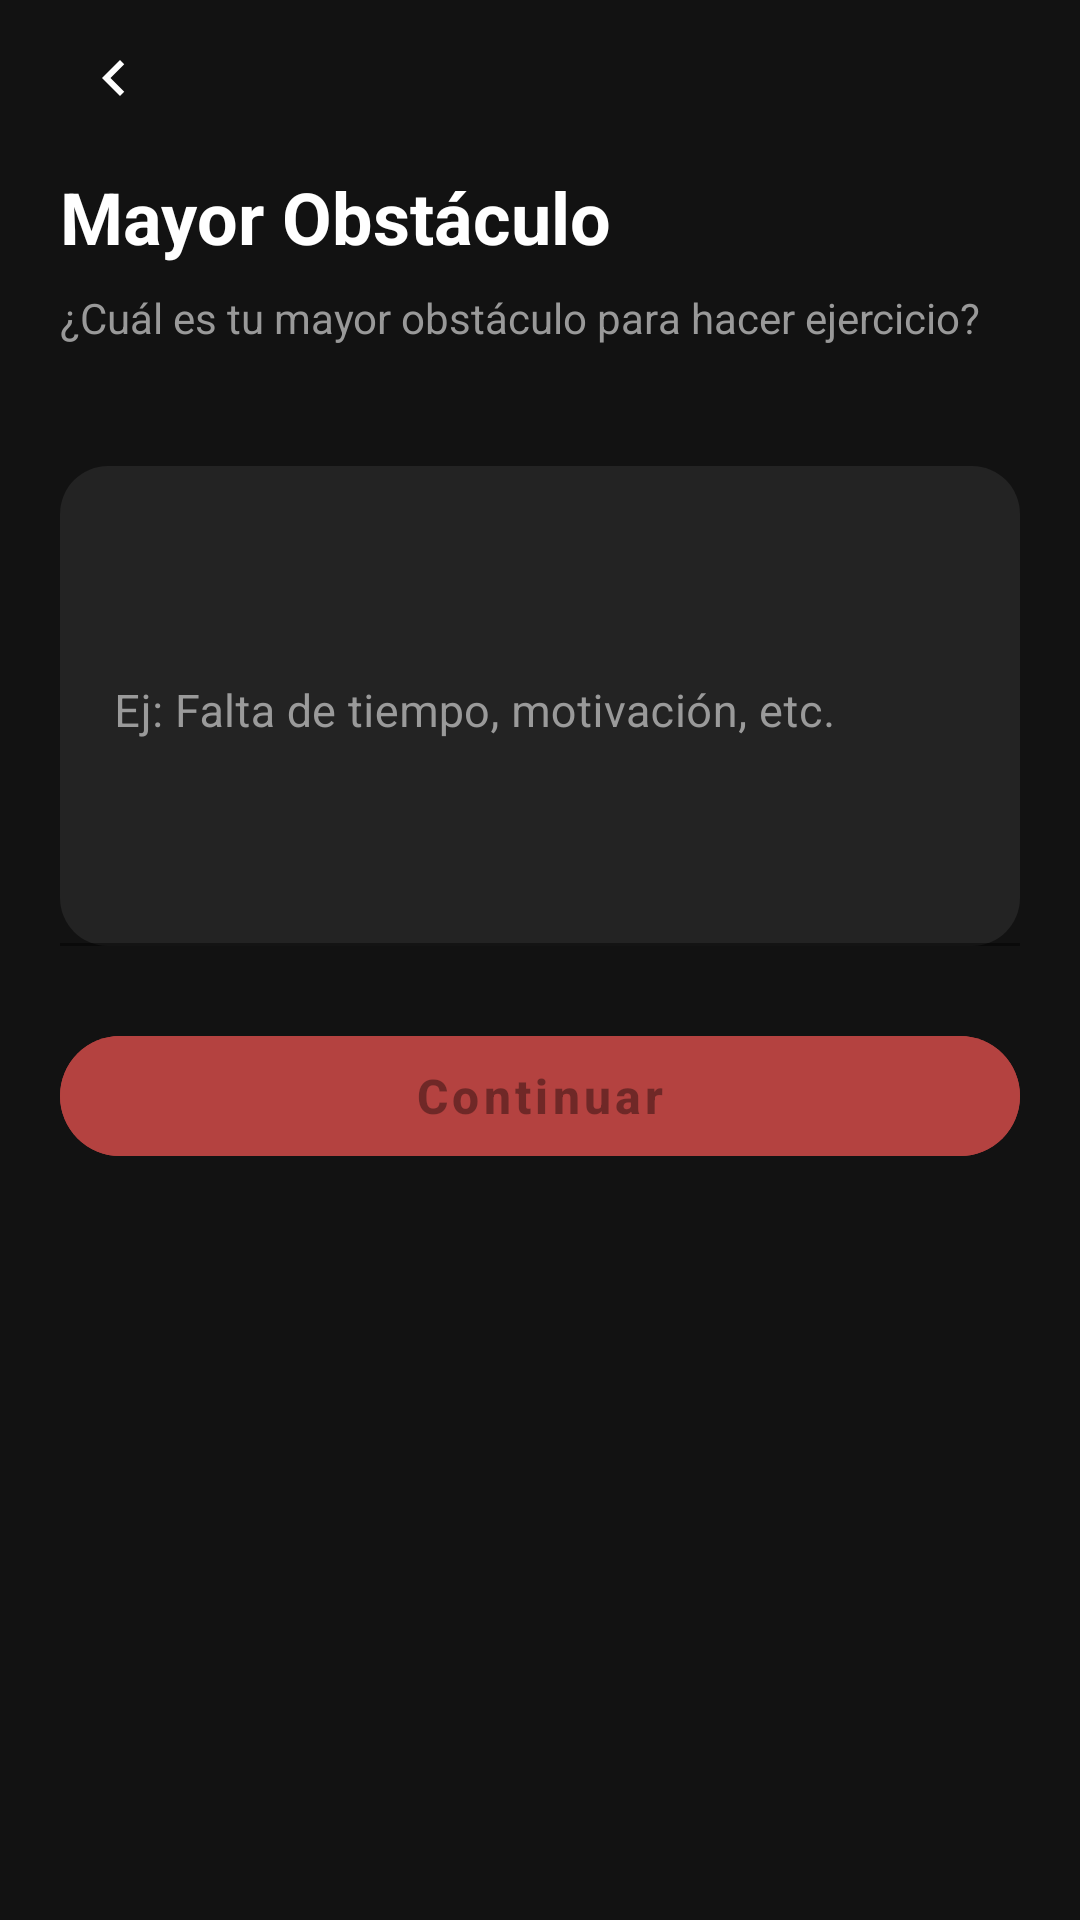

Named icons in this screenshot (1080 × 1920) and their bounding boxes, [x1,y1,x2,y2]:
Volver: [102,60,124,96]
